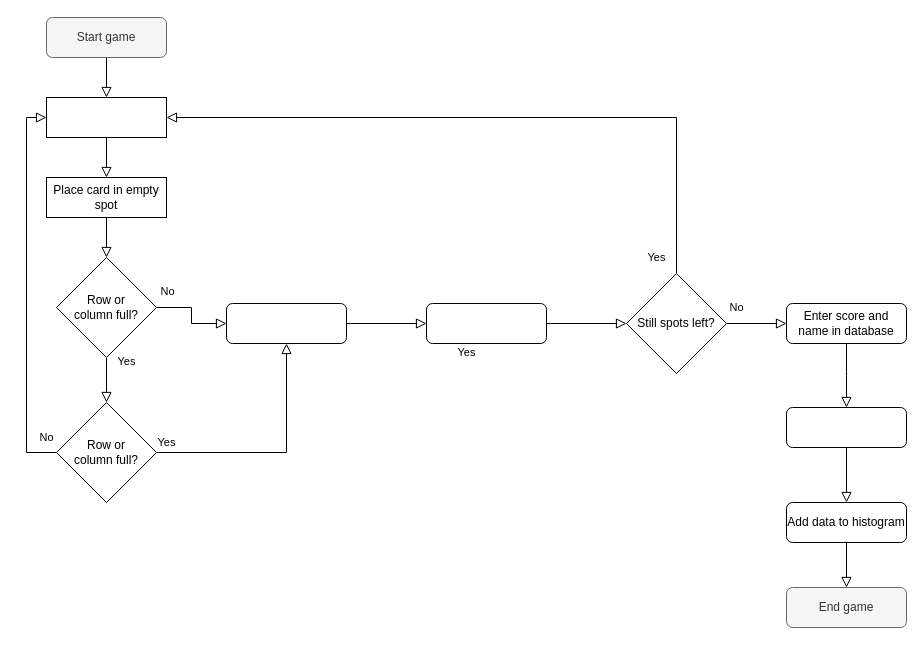
Some shapes in this 924 by 645 pixel diagram are drawn without their labels. The shapes that lost their labels are listed below. From the top down, each one's box as (x1, y1, x2, y2) in pixels, then its label:
(46, 96, 166, 138): Draw a card
(226, 302, 346, 344): Score hand
(426, 302, 546, 344): Calculate total score
(786, 406, 906, 448): Create highscore list
